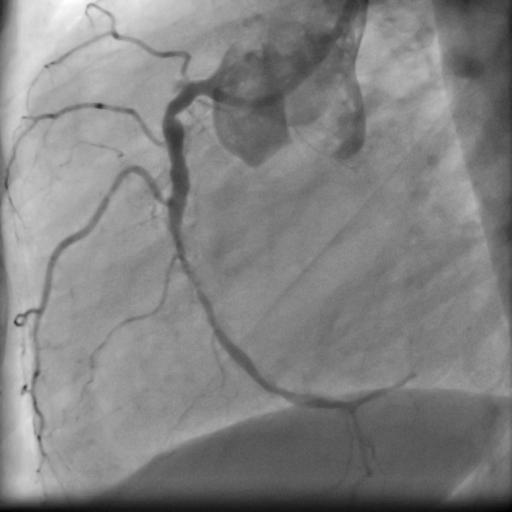Stenosis: (161, 100, 180, 122)
